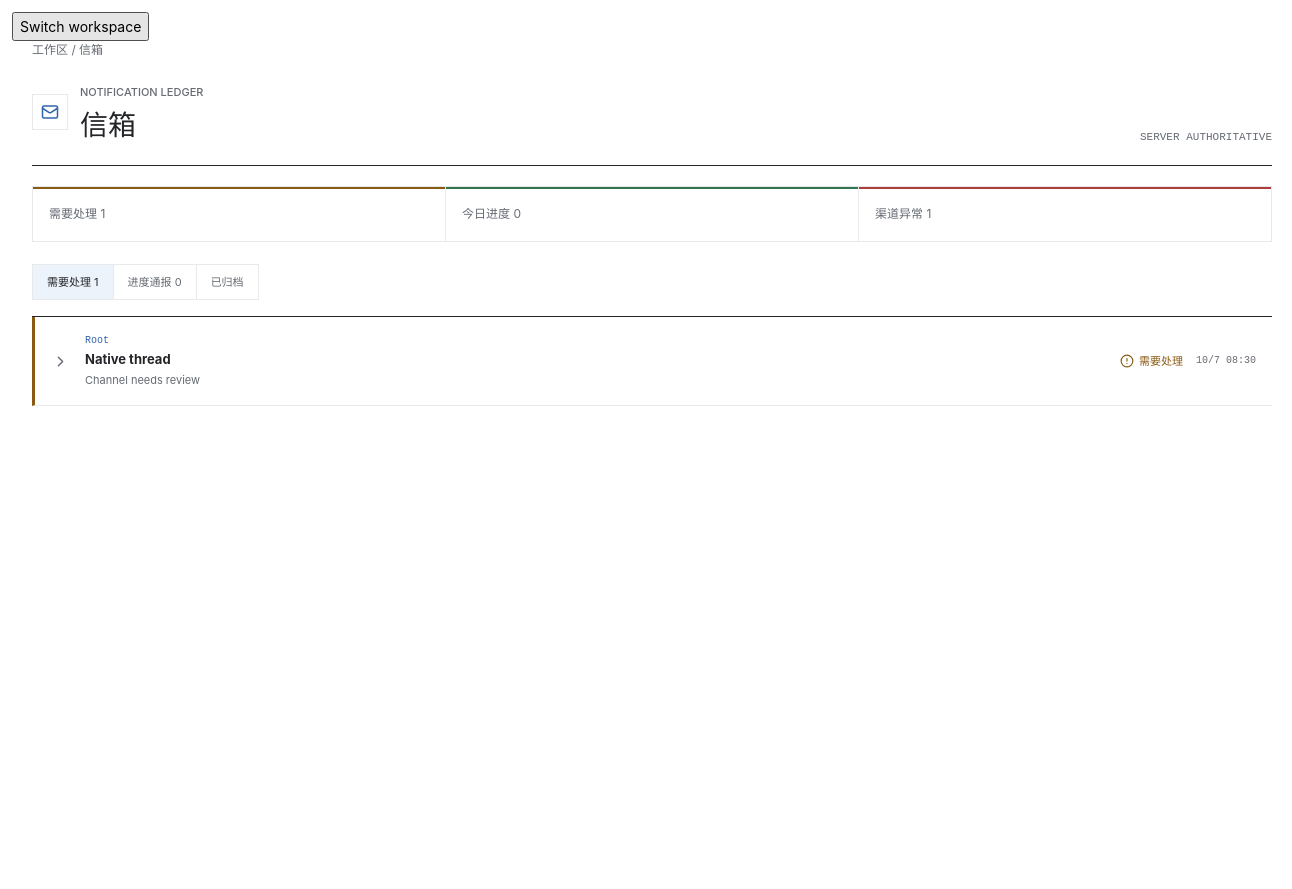
Test: actual native InboxPage › lost reply original GET survives collapse
Expected: the text "Native thread" is shown, [85, 351, 171, 367]
Click the button "Root Native thread Channel needs review 需要处理 10/7 08:30" at (128, 359), box [35, 317, 1272, 405]
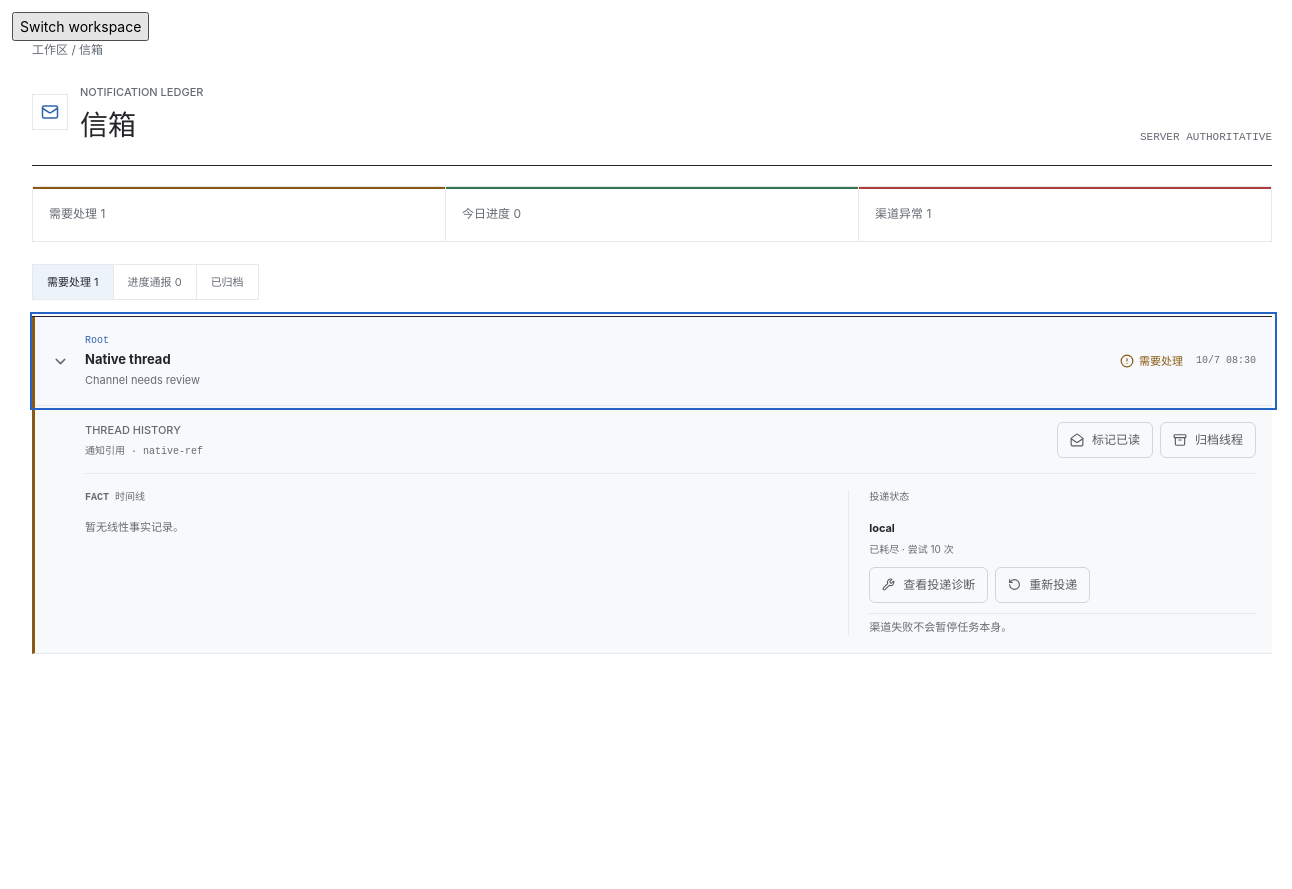
Expected: the button "重新投递" is enabled
Click the button "重新投递" at (1043, 584), box [995, 566, 1090, 602]
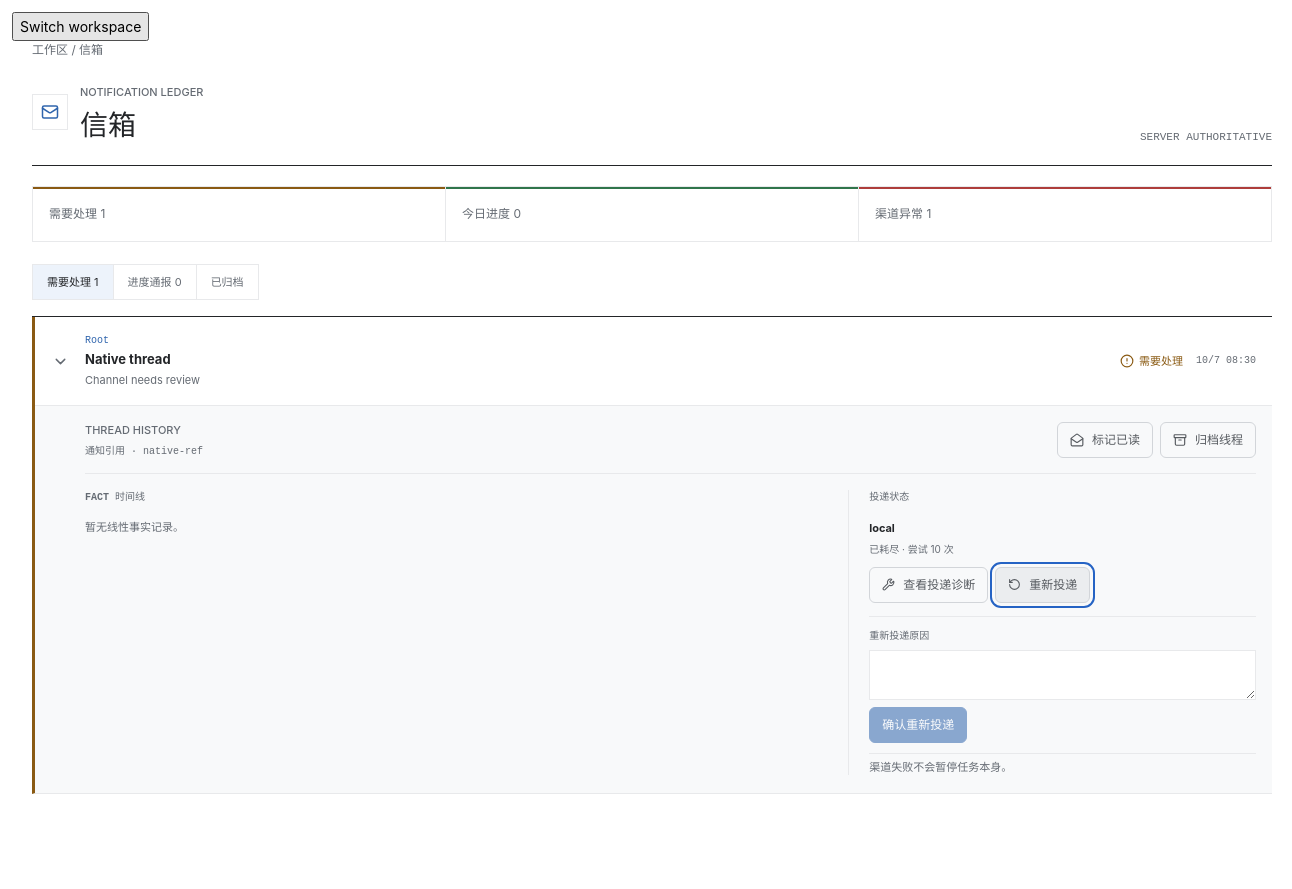
Type "  Channel restored  " into the text box labelled "重新投递原因" at (1063, 675), box [869, 650, 1256, 700]
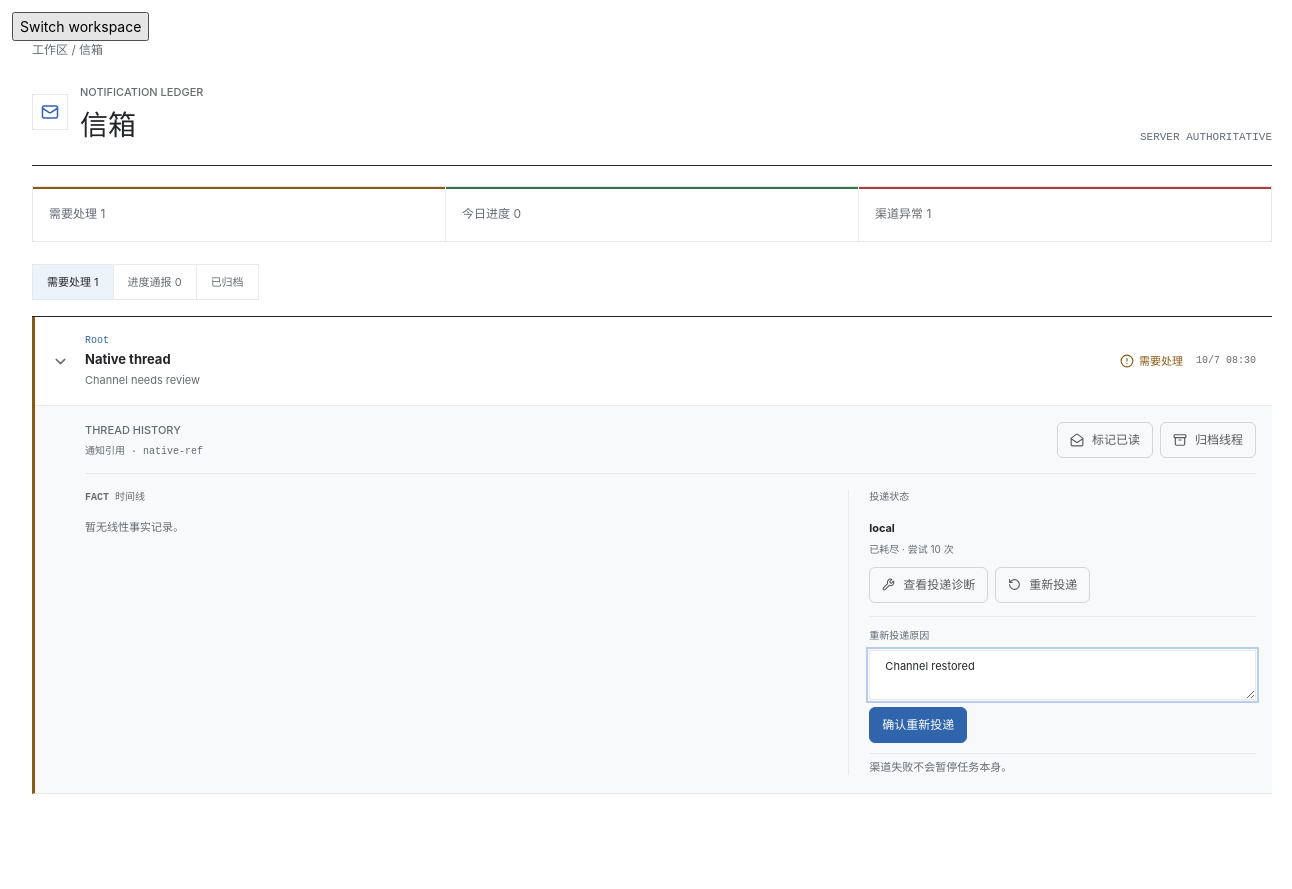
Click the button "确认重新投递" at (918, 725), box [869, 707, 967, 743]
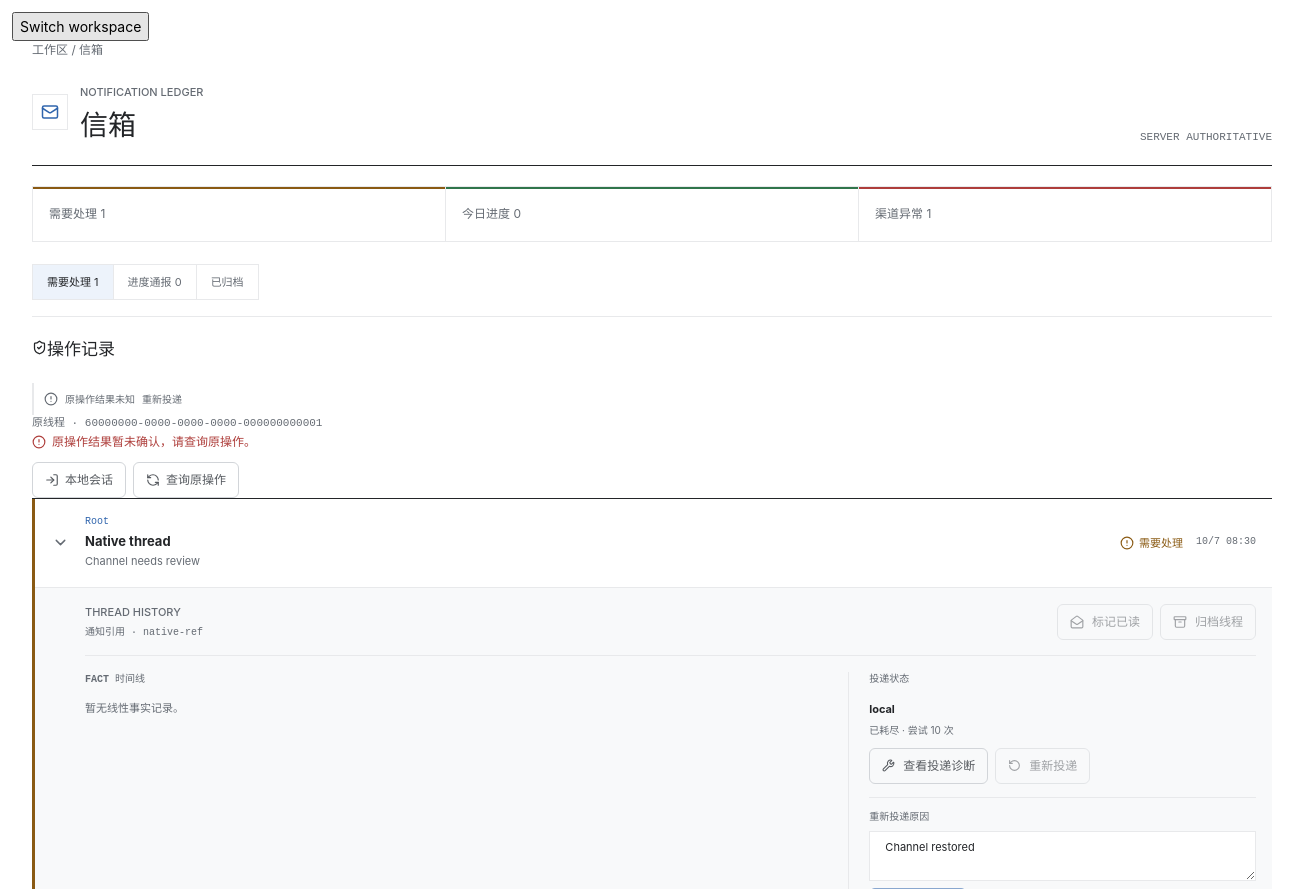
Expected: the text "原操作结果未知" is shown, [65, 392, 135, 406]
Click the button with aria-label "收起Native thread" at (128, 541), box [35, 499, 1272, 587]
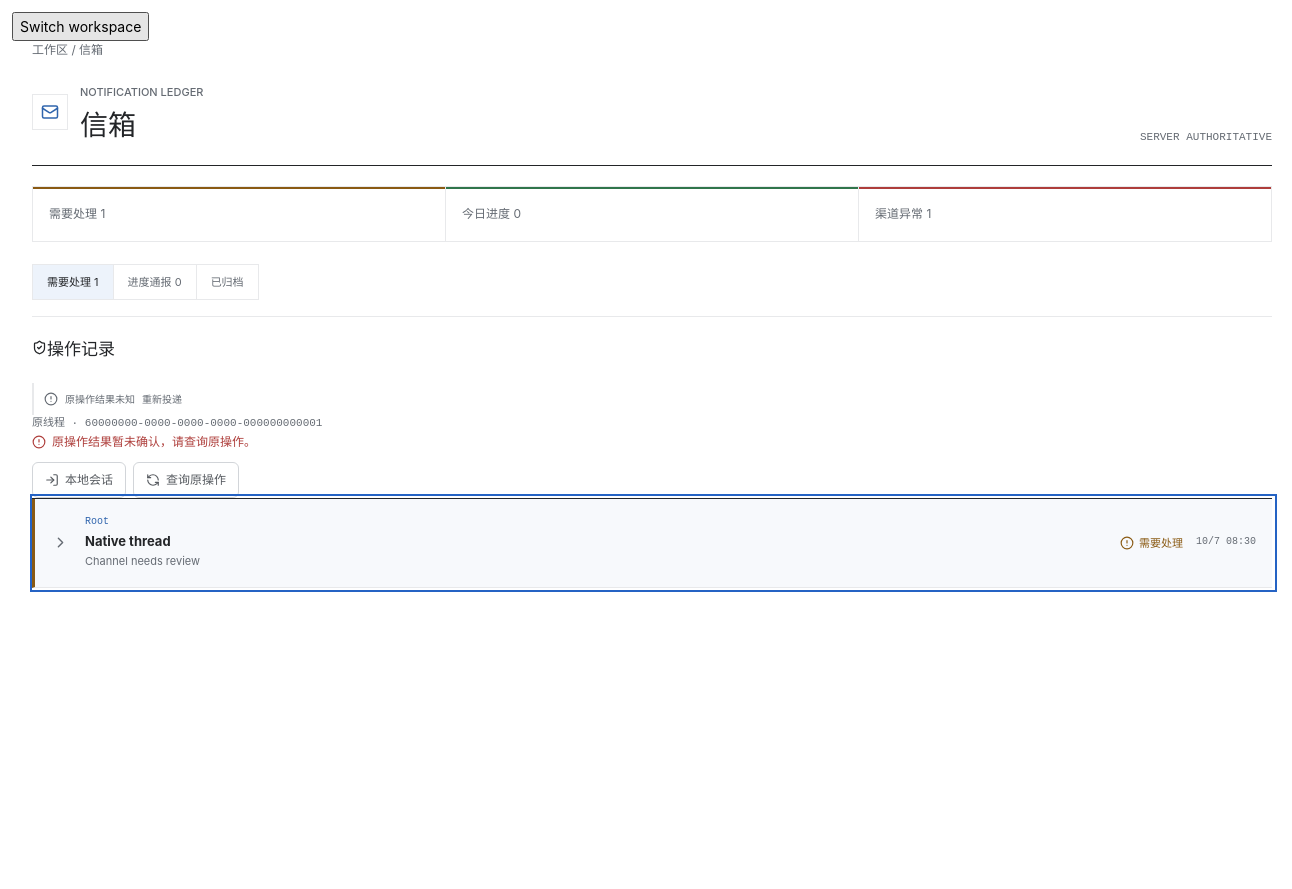
Expected: the element named "信箱操作记录" shows "60000000-0000-0000-0000-000000000001", [85, 417, 322, 429]
Click the button "查询原操作" at (186, 480), box [133, 462, 239, 498]
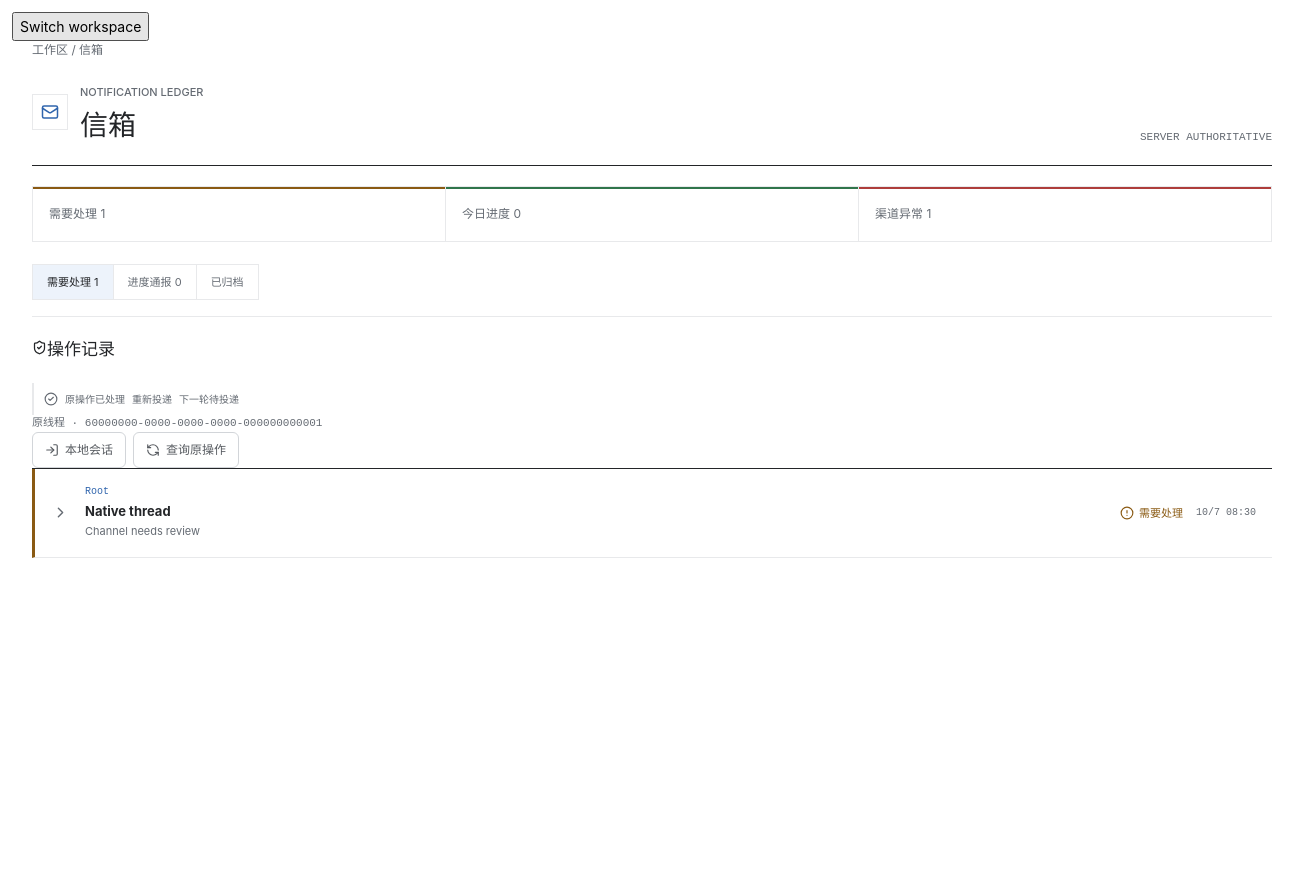
Expected: the text "下一轮待投递" is shown, [179, 392, 239, 406]
